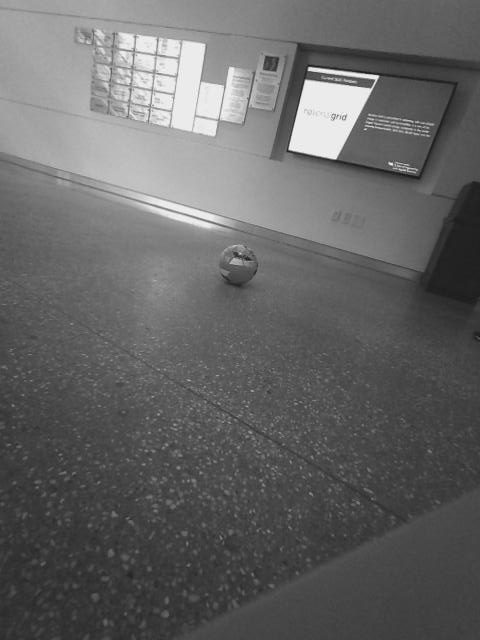ball: (217, 243, 263, 286)
